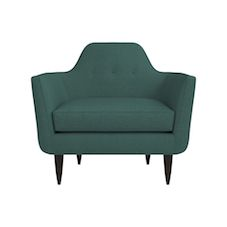chair: (18, 23, 204, 195)
